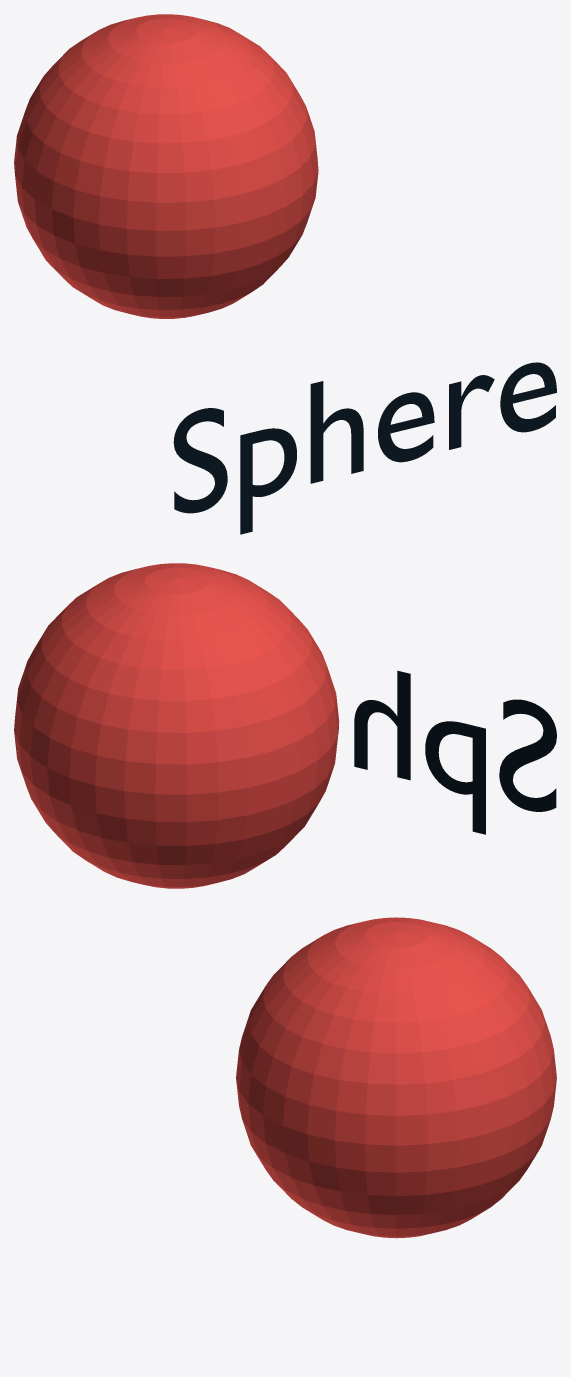
The model's file is sphere_static.gltf.
3 views of the same model, one above another, from view 1: azimuth 30°, elevation 25°; view 2: azimuth 150°, elevation 25°; view 3: azimuth 270°, elevation 25° (orthographic). The views are drawn at different scales.
Visible parts, largest first — view 1: Sphere, Text.001; view 2: Sphere, Text.001; view 3: Sphere.
Boxes of the visible parts, x1=… form: Sphere: x1=14, y1=14, x2=318, y2=318; Text.001: x1=173, y1=362, x2=556, y2=534; Sphere: x1=14, y1=563, x2=339, y2=888; Text.001: x1=338, y1=670, x2=556, y2=834; Sphere: x1=236, y1=917, x2=556, y2=1238.
Bounding box in the file's own units: 0.29 × 0.2509 × 0.3383.
